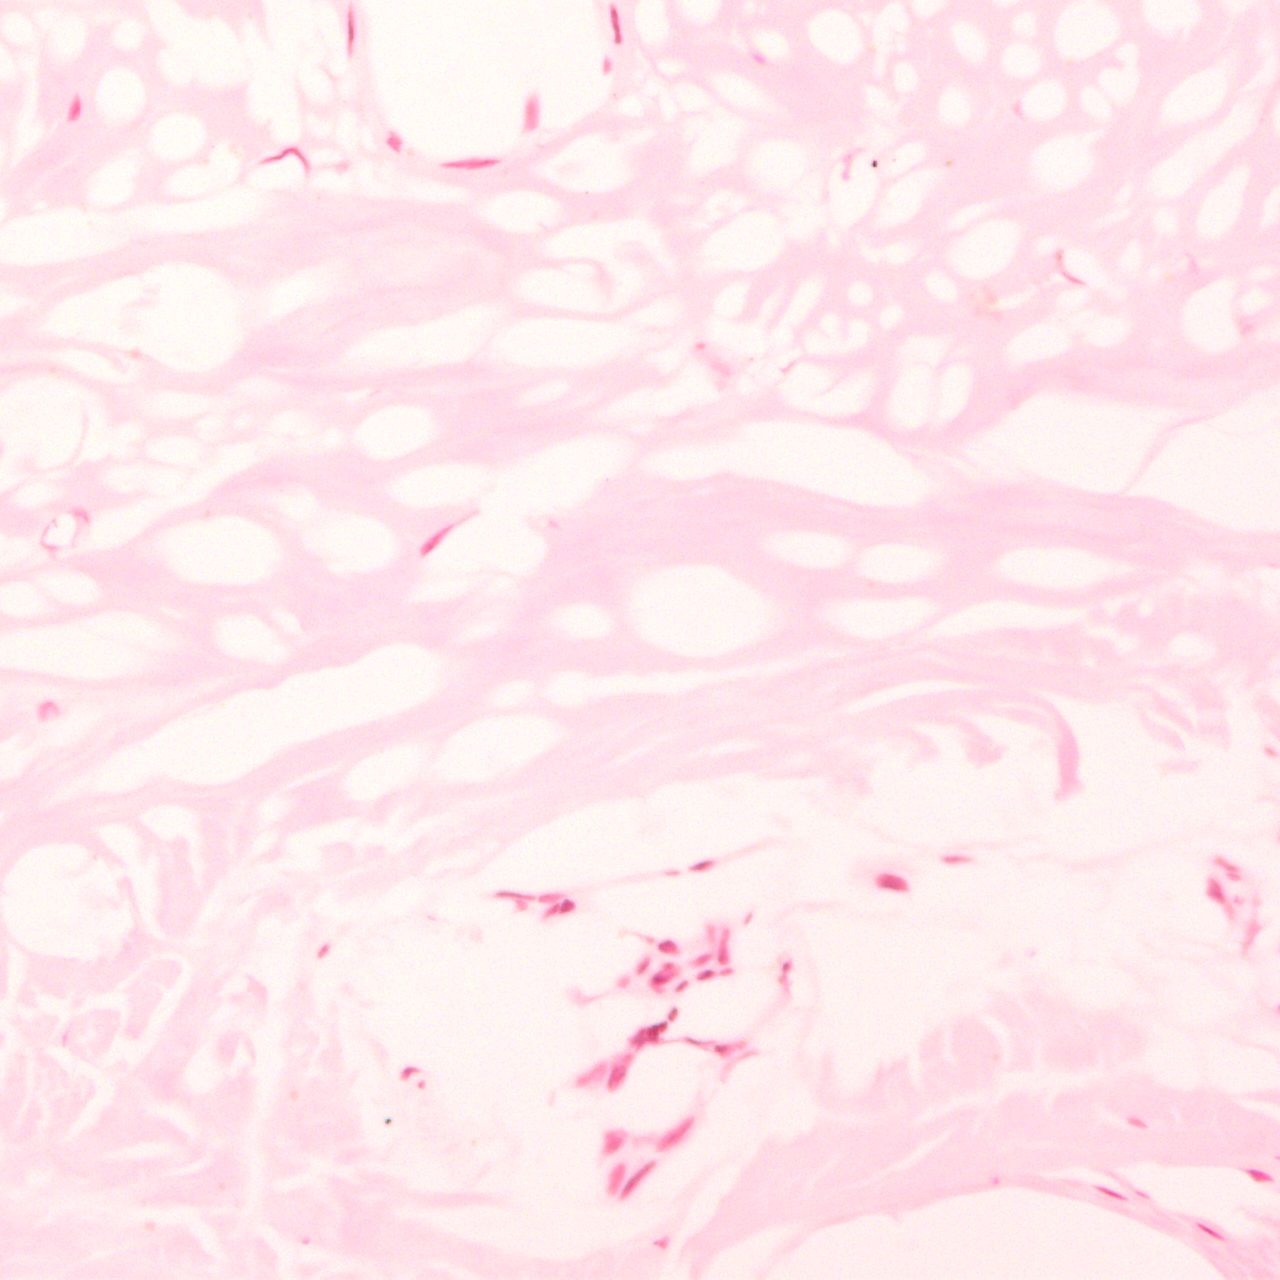dust: (870, 159, 877, 168), (384, 1118, 392, 1125)
nucleus-AC: (411, 507, 475, 561), (1194, 870, 1244, 927), (617, 1151, 658, 1202), (624, 1014, 672, 1055), (655, 1112, 698, 1155), (643, 958, 683, 996), (1206, 848, 1247, 884), (259, 146, 310, 171), (602, 1158, 630, 1196), (712, 1035, 751, 1059), (1239, 1163, 1275, 1188), (685, 854, 719, 878), (439, 157, 501, 169), (524, 94, 540, 137), (874, 872, 908, 892), (685, 949, 714, 972), (1092, 1182, 1126, 1201), (604, 1065, 627, 1093), (1195, 1221, 1223, 1243), (537, 901, 562, 924), (602, 1129, 624, 1155), (717, 926, 732, 963), (345, 2, 355, 55), (609, 6, 622, 44), (397, 1061, 421, 1081), (633, 953, 653, 977), (671, 976, 691, 997), (493, 890, 535, 900), (66, 95, 82, 121), (937, 855, 972, 866), (315, 939, 331, 962), (386, 131, 402, 154), (779, 957, 793, 983), (656, 939, 679, 954), (602, 55, 614, 75), (560, 898, 576, 913), (695, 969, 717, 979), (718, 966, 735, 977), (667, 1007, 678, 1021)
